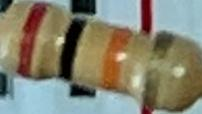Black: (54, 14, 92, 85)
Orange: (96, 25, 139, 94)
Red: (11, 0, 54, 79)
Side-Gold: (138, 32, 179, 107)
